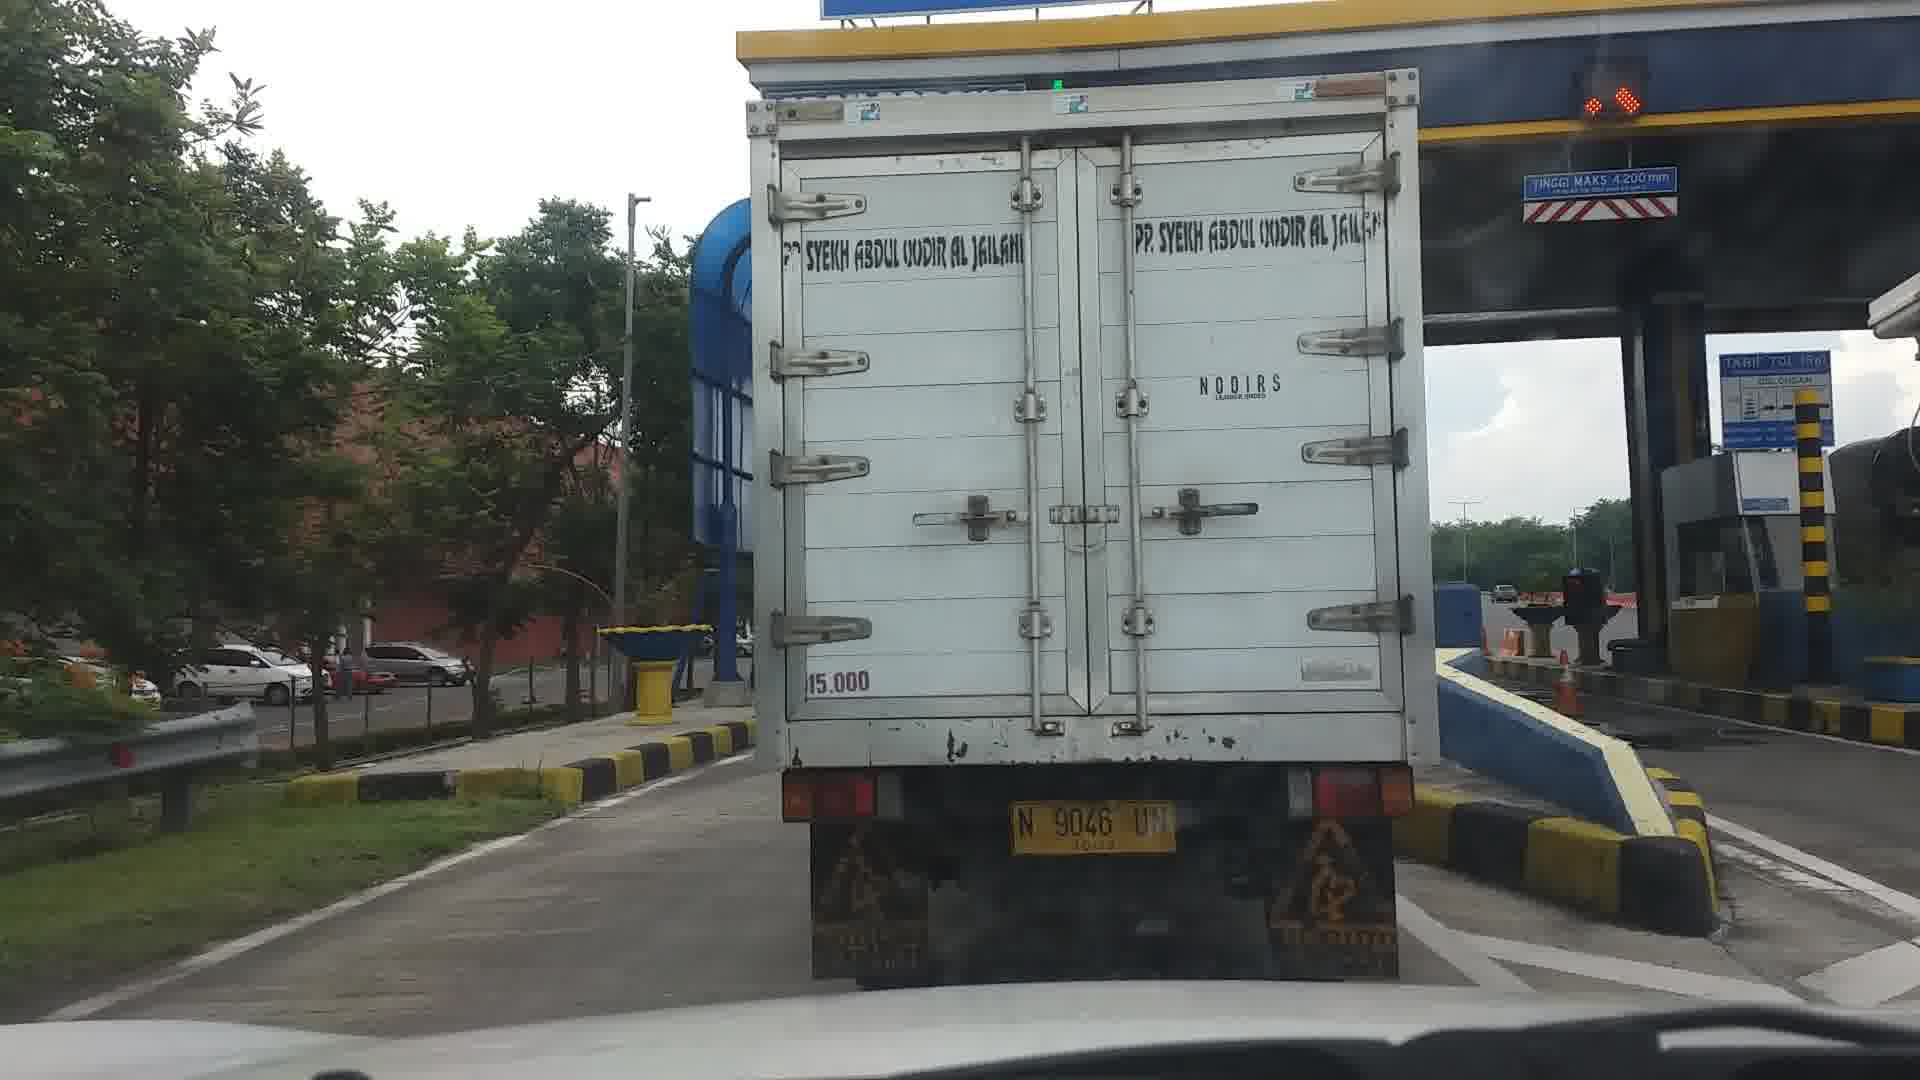plate_positive: (1007, 799, 1178, 855)
